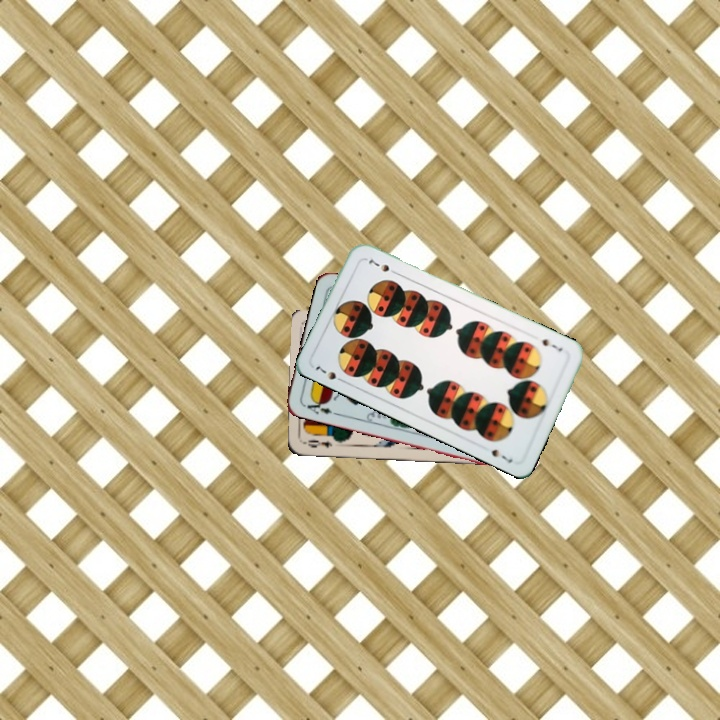EA: (303, 395, 335, 417)
EO: (299, 436, 335, 451)
S7: (311, 362, 348, 385), (538, 335, 565, 354)
